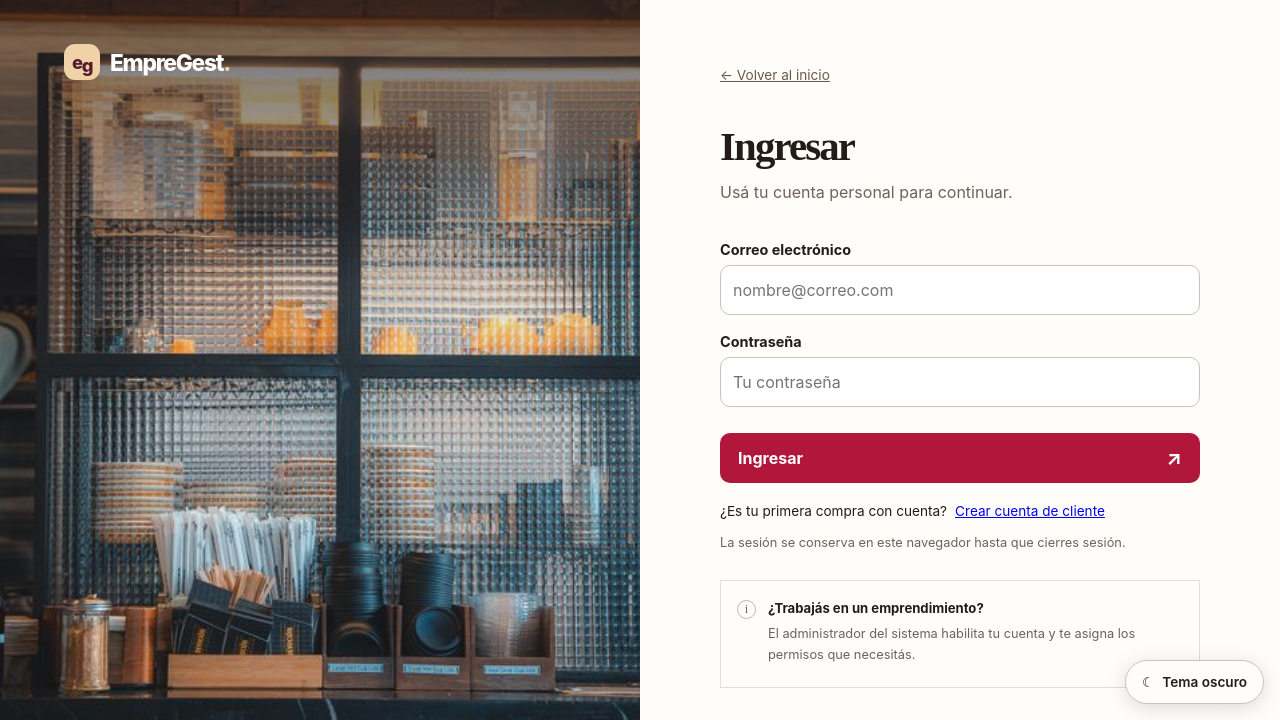
CP-AUTH-02: un acceso rechazado mantiene la pantalla de ingreso y permite reintentar
The width and height of the screenshot is (1280, 720).
Type "qa@example.test" into the field labelled "Correo electrónico" at (960, 290), box [720,266,1200,316]
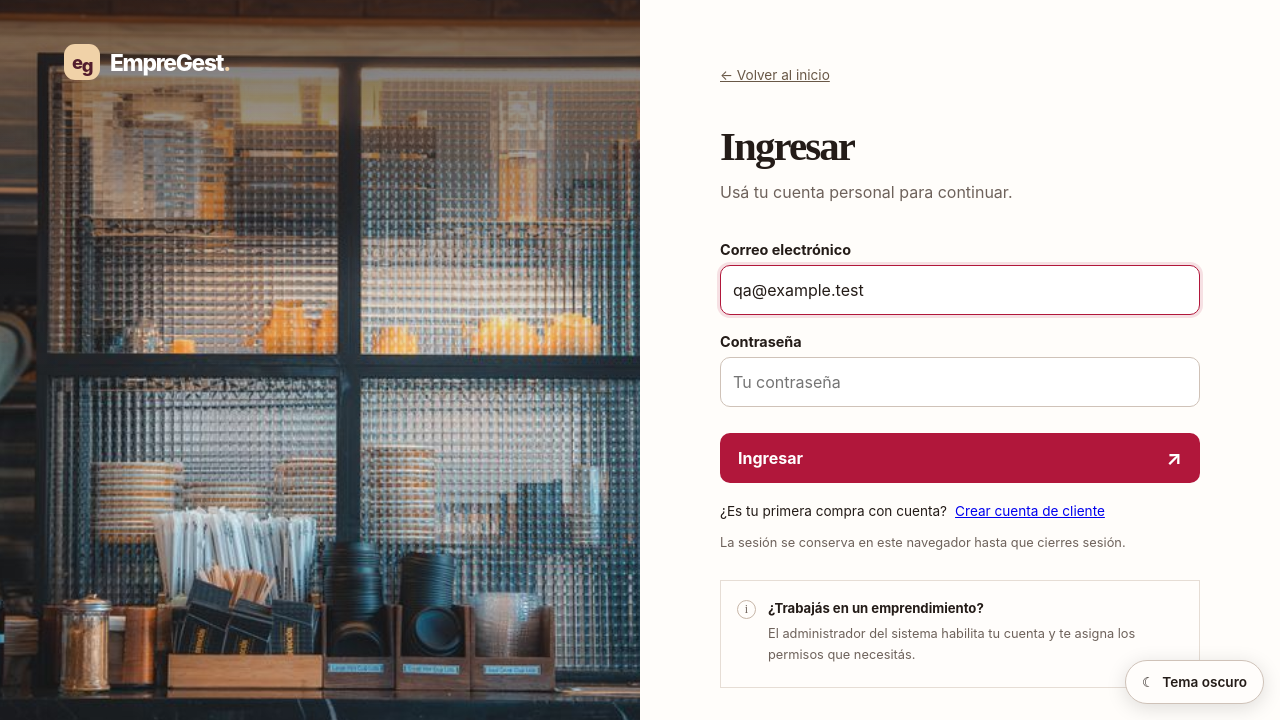
Type "clave-de-prueba" into the password field labelled "Contraseña" at (960, 382), box [720,358,1200,408]
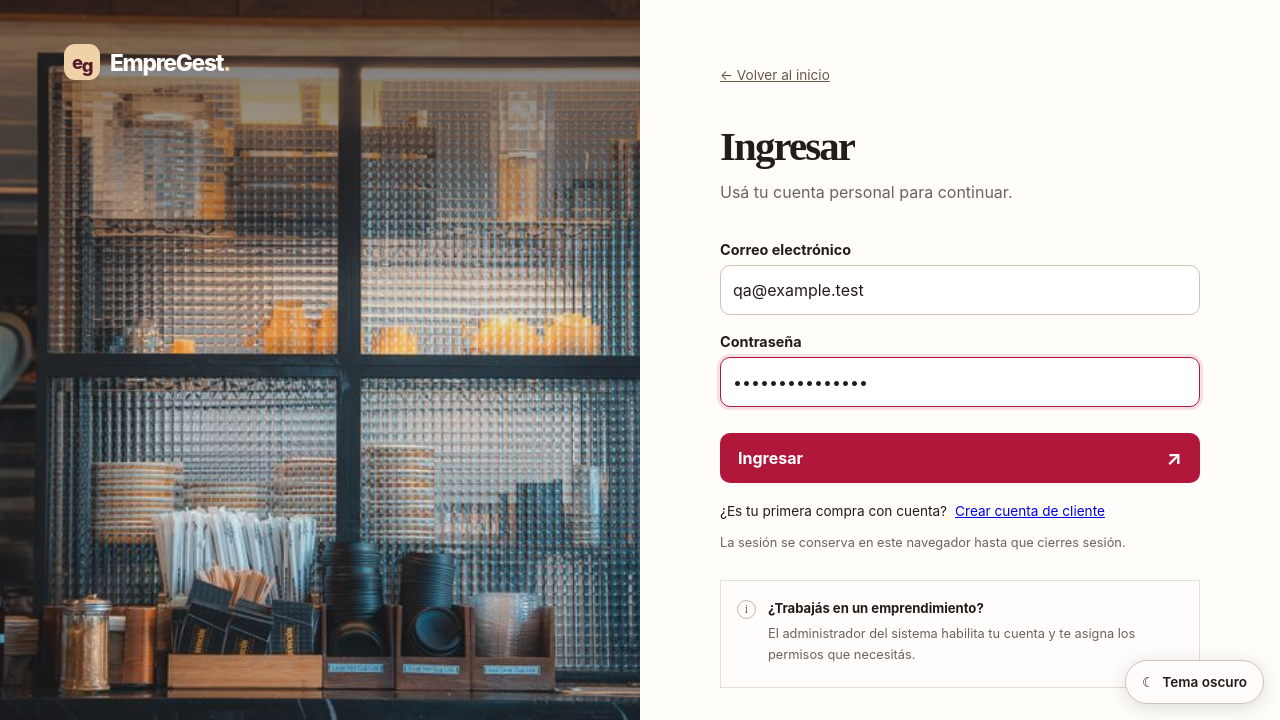
Click the button "Ingresar ↗" at (770, 458), box [720,434,1200,484]
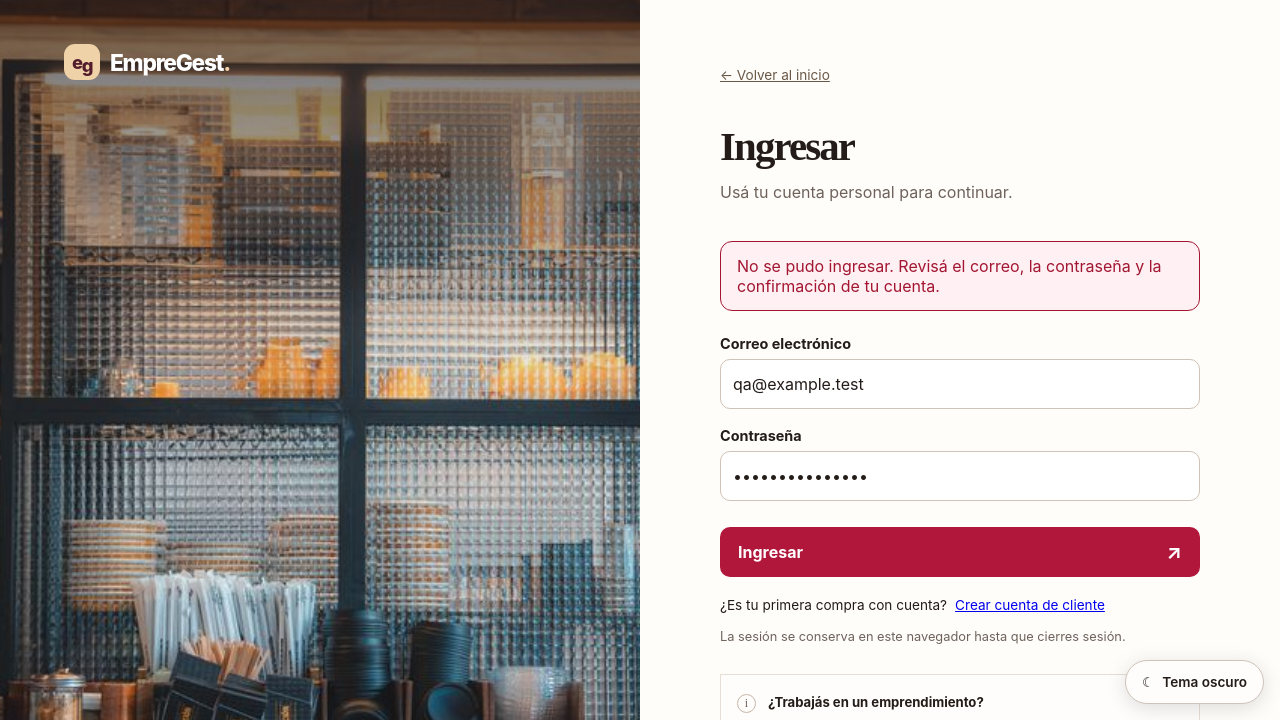
Expected: the button "Ingresar ↗" is enabled, [720,528,1200,578]
Now the message shows "No se pudo ingresar", box [737,256,1162,296]
